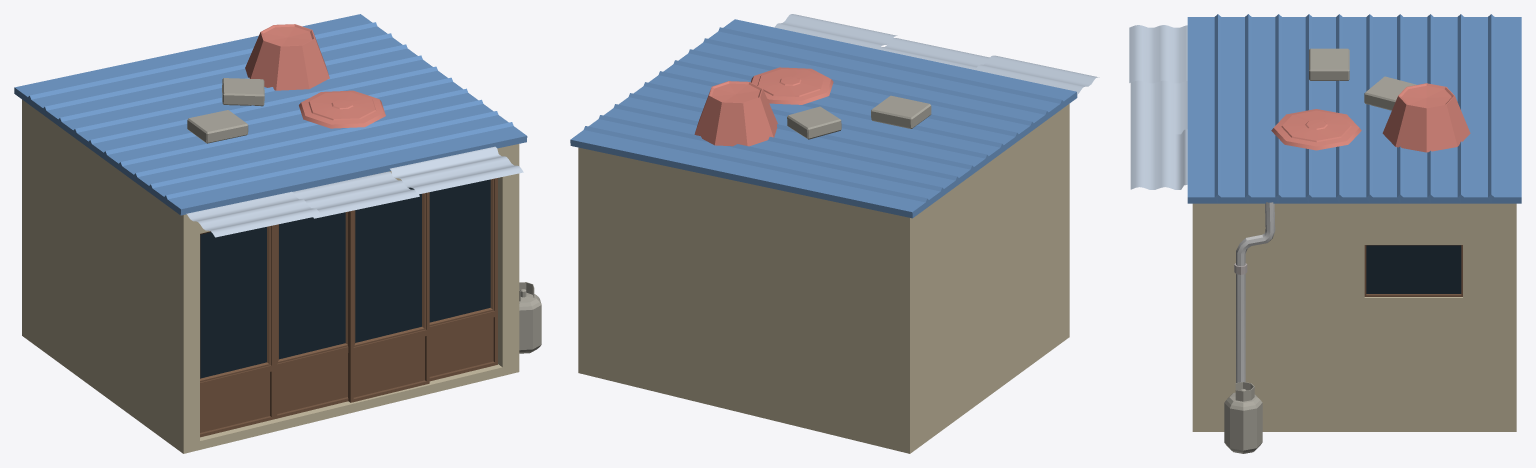
The model's file is Countryhouse003.fbx.
3 renders of one model, left to right at view 1: azimuth 30°, elevation 25°; view 2: azimuth 150°, elevation 25°; view 3: azimuth 270°, elevation 25°, orthographic.
Parts seen in each view (by area): view 1: Countryhouse003, Prop01; view 2: Countryhouse003; view 3: Countryhouse003, Prop01.
Boxes of the visible parts, x1,y1,x2,y2 form: Countryhouse003: (14, 14, 527, 453); Prop01: (519, 282, 541, 353); Countryhouse003: (570, 14, 1099, 453); Countryhouse003: (1129, 14, 1521, 431); Prop01: (1224, 382, 1262, 453).
Size of the model in its own units: 138 by 121 by 96.17.
